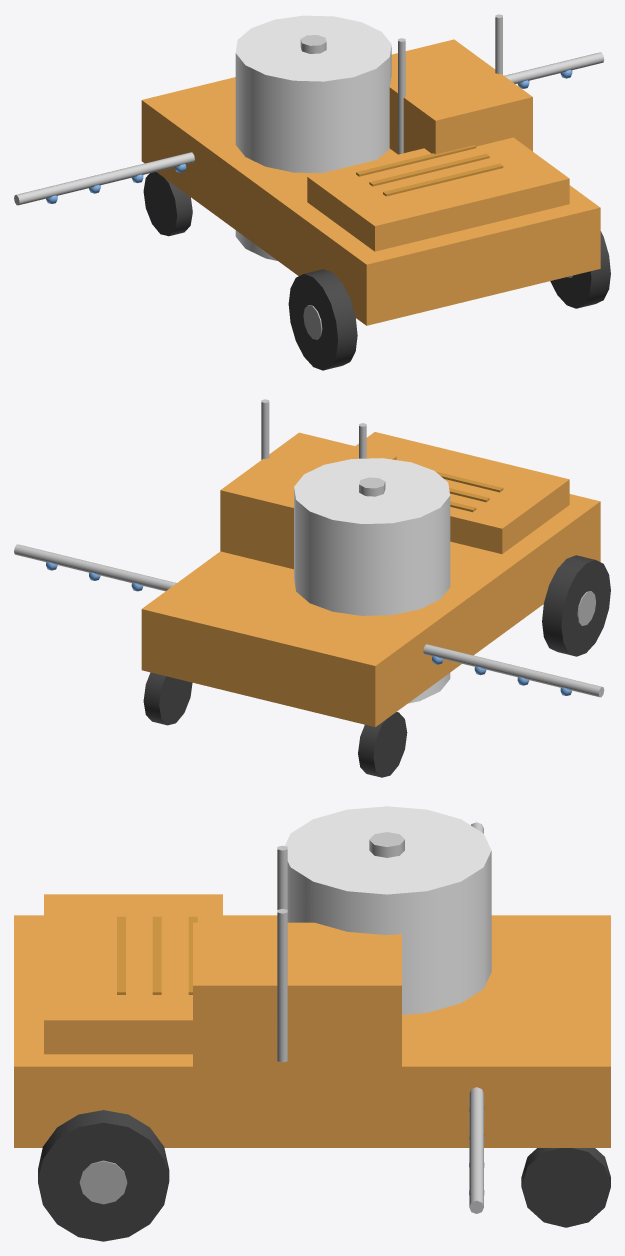
Rendered from sprayer.glb.
The picture shows the model from 3 angles, top to bottom: view 1: azimuth 30°, elevation 25°; view 2: azimuth 150°, elevation 25°; view 3: azimuth 270°, elevation 25°; orthographic projection. The views are drawn at different scales.
Size of the model in its own units: 3 by 1.17 by 2.
